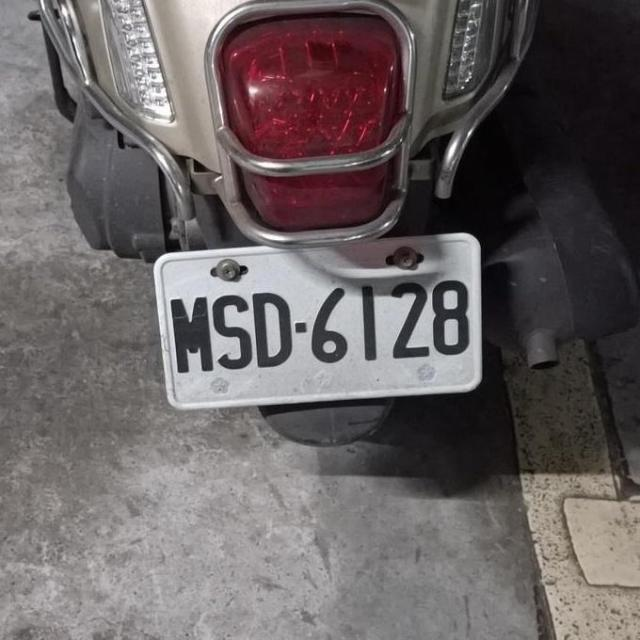W: (143, 228, 495, 420)
